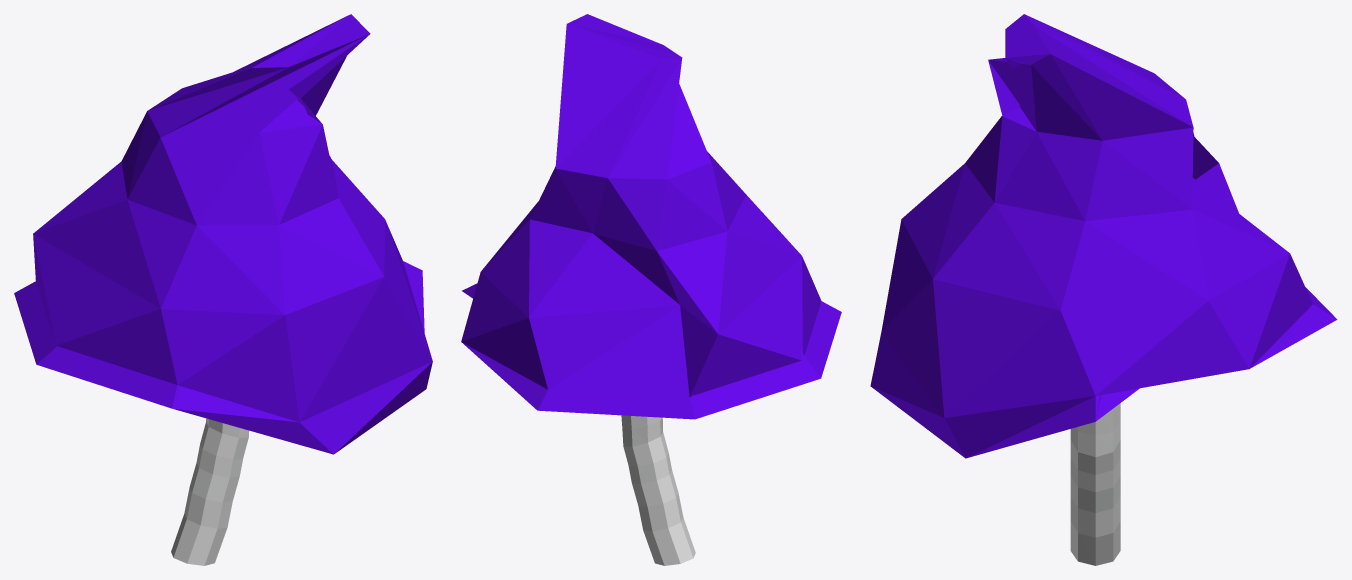
The model's file is mushroom fugus.fbx.
3 renders of one model, left to right at view 1: azimuth 30°, elevation 25°; view 2: azimuth 150°, elevation 25°; view 3: azimuth 270°, elevation 25°, orthographic. The views are drawn at different scales.
Parts seen in each view (by area): view 1: Cylinder; view 2: Cylinder; view 3: Cylinder.
Part boxes in pixels (x1,y1,x2,y2): Cylinder: [14, 14, 432, 565]; Cylinder: [461, 14, 841, 565]; Cylinder: [870, 14, 1337, 565].
Size of the model in its own units: 358 by 469 by 345.
